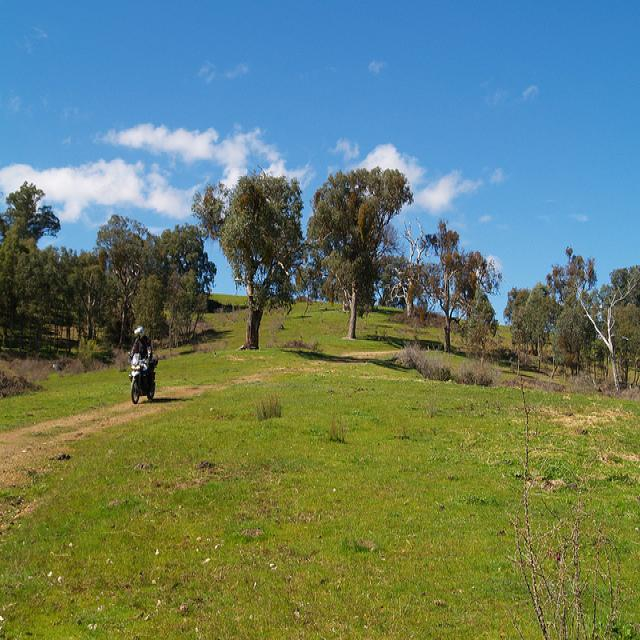motor: (129, 338, 157, 404)
